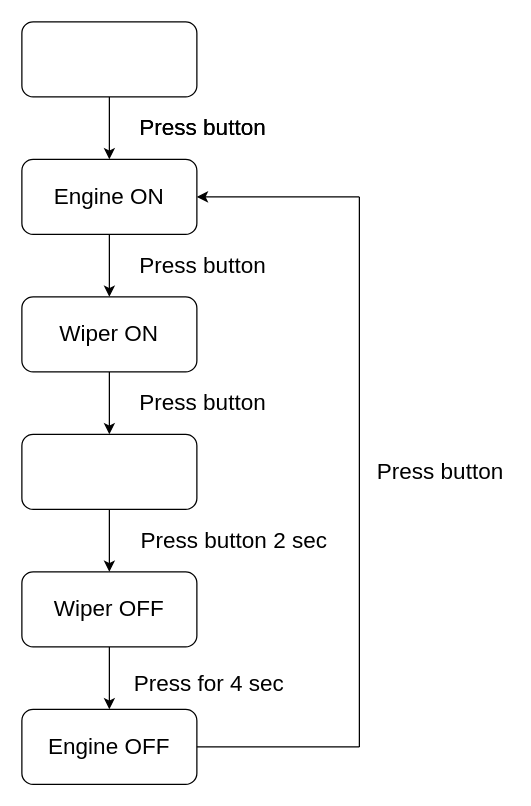
Some shapes in this 531 by 806 pixel diagram are drawn without their labels. The box of each missing label's shape, as (x1, y1, x2, y2) in pixels:
Speed change: (21, 433, 197, 509)
STM32F40VGT6: (21, 21, 197, 97)
